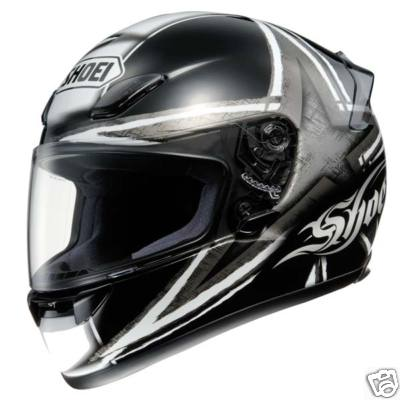helmet: (49, 24, 387, 315)
